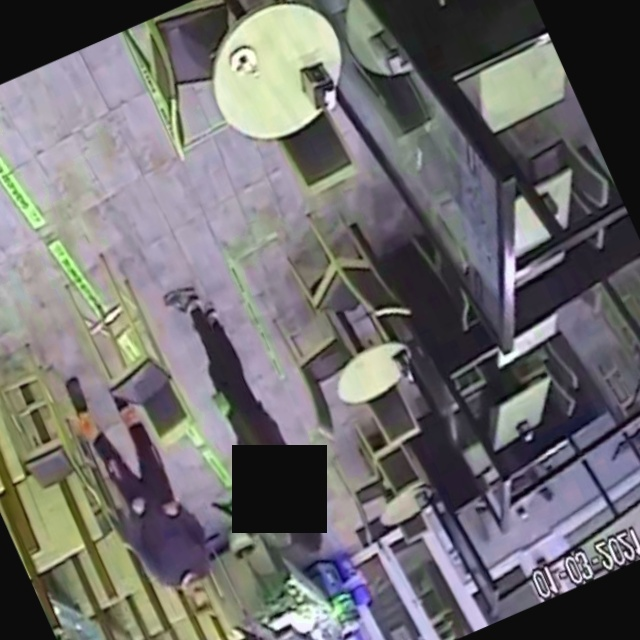gun: (195, 474, 258, 537)
